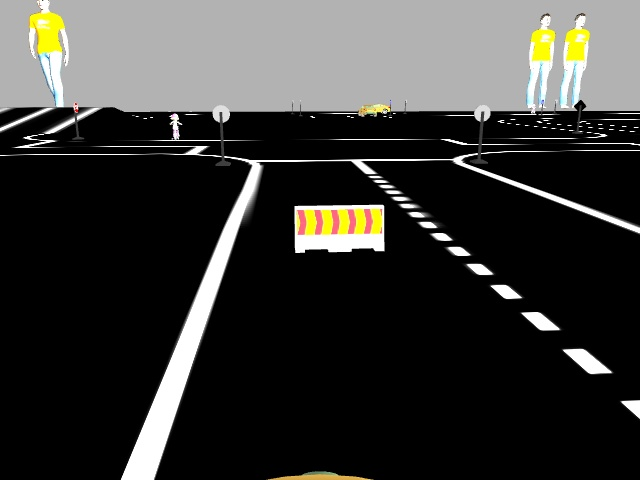ClosedRoadStand: (295, 205, 383, 250)
